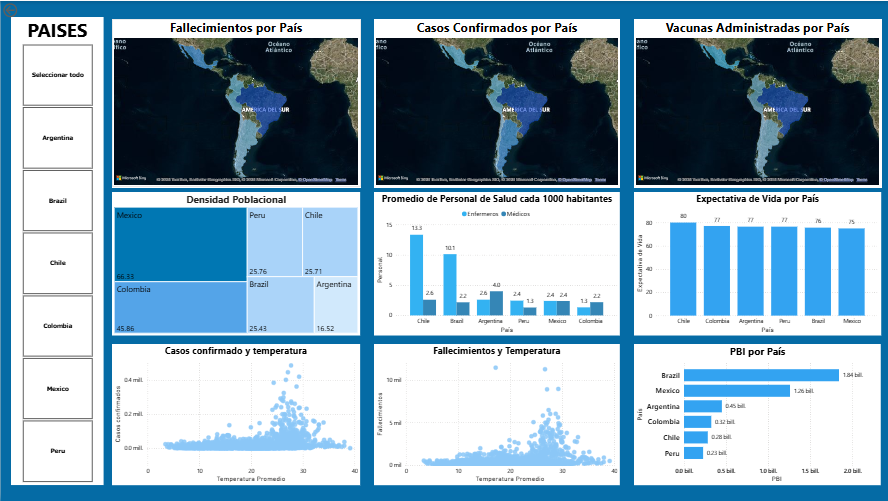

The dashboard page shown, as its layout file describes it:
{"tool":"powerbi","page":{"name":"Análisis General","canvas":[1920,1080],"ordinal":1},"visuals":[{"type":"slicer","title":"PAISES","fields":{"Values":["df.country_name"]},"box":[21.3,34.6,199.5,1010.8],"z":0},{"type":"filledMap","title":"Fallecimientos por País","fields":{"Category":["df.country_name"]},"box":[240.7,38.6,536,363.1],"z":1000},{"type":"actionButton","box":[0,0,100,40],"z":2000},{"type":"filledMap","title":"Casos Confirmados por País","fields":{"Category":["df.country_name"]},"box":[805.3,37.9,531.1,363.3],"z":3000},{"type":"filledMap","title":"Vacunas Administradas por País","fields":{"Category":["df.country_name"]},"box":[1367.1,37.9,534,363.3],"z":4000},{"type":"clusteredColumnChart","title":"Promedio de Personal de Salud cada 1000 habitantes","fields":{"Y":["Avg(df.nurses_per_1000)","Avg(df.physicians_per_1000)"],"Category":["df.country_name"]},"box":[806,412.3,530.7,309.9],"z":5000},{"type":"treemap","title":"Densidad Poblacional","fields":{"Values":["Max(df.population_density)"],"Group":["df.country_name"]},"box":[240.7,412.3,536,309.9],"z":6000},{"type":"scatterChart","title":"Casos confirmado y temperatura","fields":{"Y":["Sum(df.new_confirmed)"],"X":["df.average_temperature_celsius"]},"box":[240.7,740.8,536,304.6],"z":7000},{"type":"scatterChart","title":"Fallecimientos y Temperatura","fields":{"X":["df.average_temperature_celsius"],"Y":["Sum(df.new_deceased)"]},"box":[806,740.8,530.7,304.6],"z":8000},{"type":"clusteredColumnChart","fields":{"Y":["Max(df.life_expectancy)"],"Category":["df.country_name"]},"box":[1367,412,534,310],"z":9000},{"type":"barChart","title":"PBI por País","fields":{"Category":["df.country_name"],"Y":["Max(df.gdp_usd)"]},"box":[1367.3,740.8,533.3,304.6],"z":10000}]}

Visuals, with their boxes in screenshot pixels (x1, y1, x2, y2), scaled from the page's 1920x1080 canvas onto the 888x501 screenshot:
"PAISES" slicer: x1=10 y1=16 x2=102 y2=485
"Fallecimientos por País" filledMap: x1=111 y1=18 x2=359 y2=186
actionButton: x1=0 y1=0 x2=46 y2=19
"Casos Confirmados por País" filledMap: x1=372 y1=18 x2=618 y2=186
"Vacunas Administradas por País" filledMap: x1=632 y1=18 x2=879 y2=186
"Promedio de Personal de Salud cada 1000 habitantes" clusteredColumnChart: x1=373 y1=191 x2=618 y2=335
"Densidad Poblacional" treemap: x1=111 y1=191 x2=359 y2=335
"Casos confirmado y temperatura" scatterChart: x1=111 y1=344 x2=359 y2=485
"Fallecimientos y Temperatura" scatterChart: x1=373 y1=344 x2=618 y2=485
clusteredColumnChart - Max(df.life_expectancy) x df.country_name: x1=632 y1=191 x2=879 y2=335
"PBI por País" barChart: x1=632 y1=344 x2=879 y2=485
